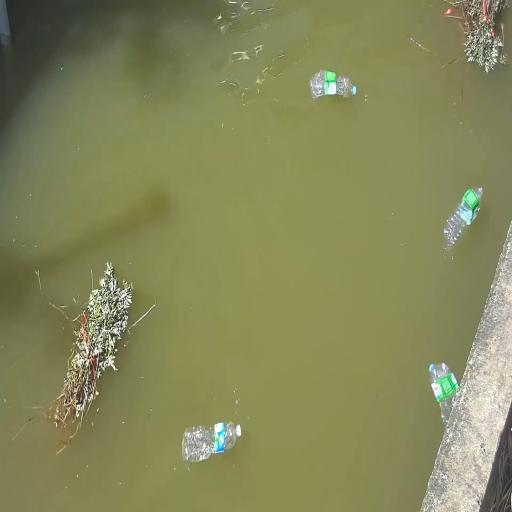plastic: (183, 422, 241, 462), (444, 188, 482, 249), (430, 363, 458, 426), (310, 71, 356, 99), (236, 425, 241, 437), (352, 85, 356, 95)
twig: (29, 262, 155, 453), (444, 0, 509, 73)
